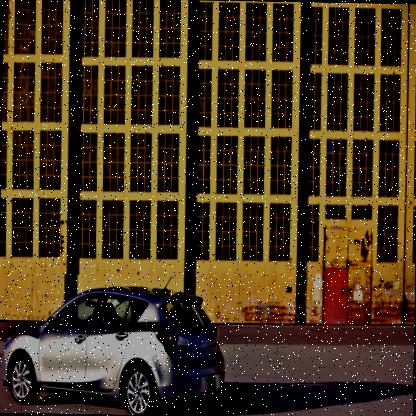Car: (2, 273, 226, 415)
